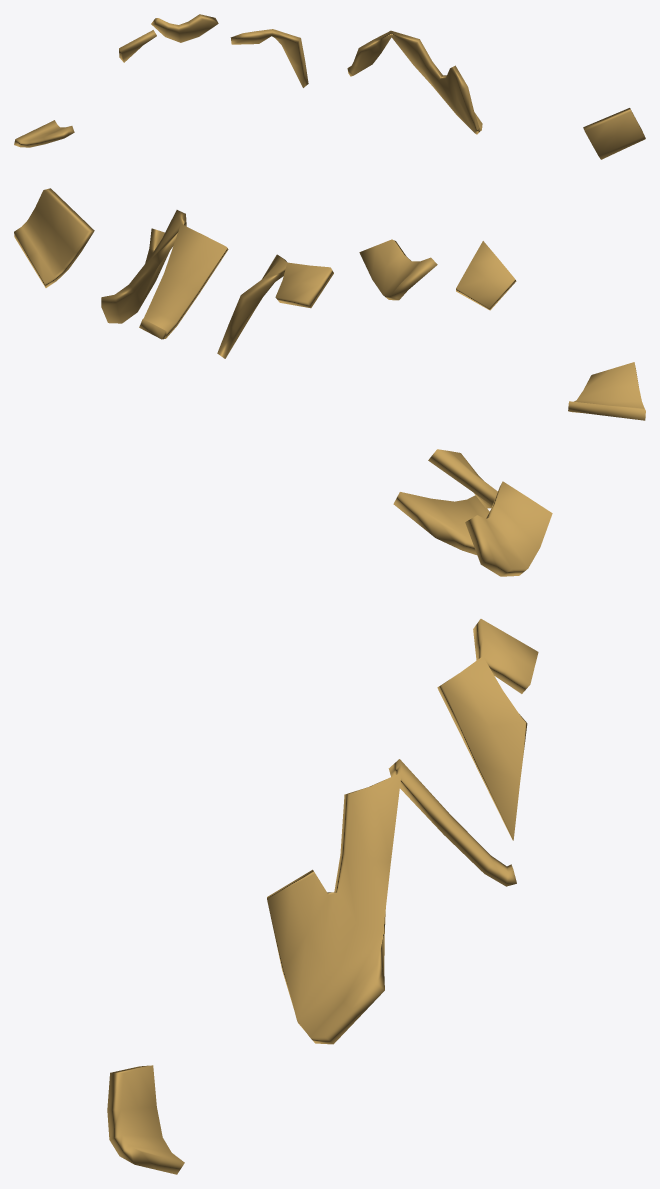
The picture shows the model from 3 angles, top to bottom: view 1: azimuth 30°, elevation 25°; view 2: azimuth 150°, elevation 25°; view 3: azimuth 270°, elevation 25°; orthographic projection. The views are drawn at different scales.
Visible parts, largest first — view 1: 左侧腕掌掌侧韧带; view 2: 左侧腕掌掌侧韧带; view 3: 左侧腕掌掌侧韧带.
Boxes of the visible parts, bbox=[...] form: 左侧腕掌掌侧韧带: bbox=[14, 14, 645, 159]; 左侧腕掌掌侧韧带: bbox=[14, 188, 645, 420]; 左侧腕掌掌侧韧带: bbox=[107, 449, 552, 1174].
Bounding box in the file's own units: 0.0632 × 0.0195 × 0.0224.
